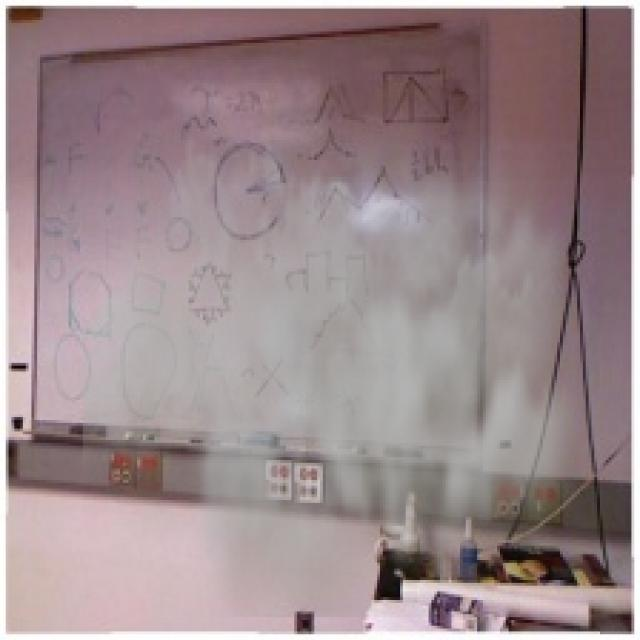smoke: (83, 83, 611, 617)
